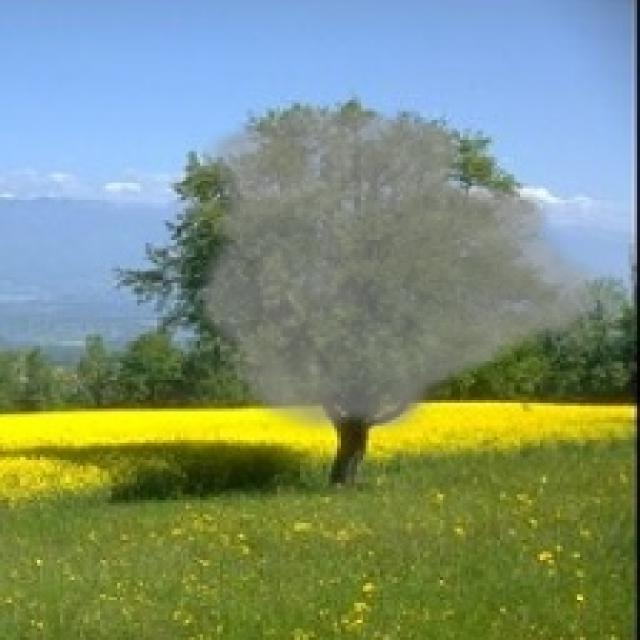Smoke: (192, 100, 612, 443)
